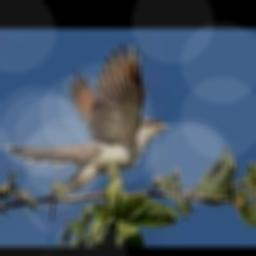Cuckoo: (2, 39, 172, 188)
